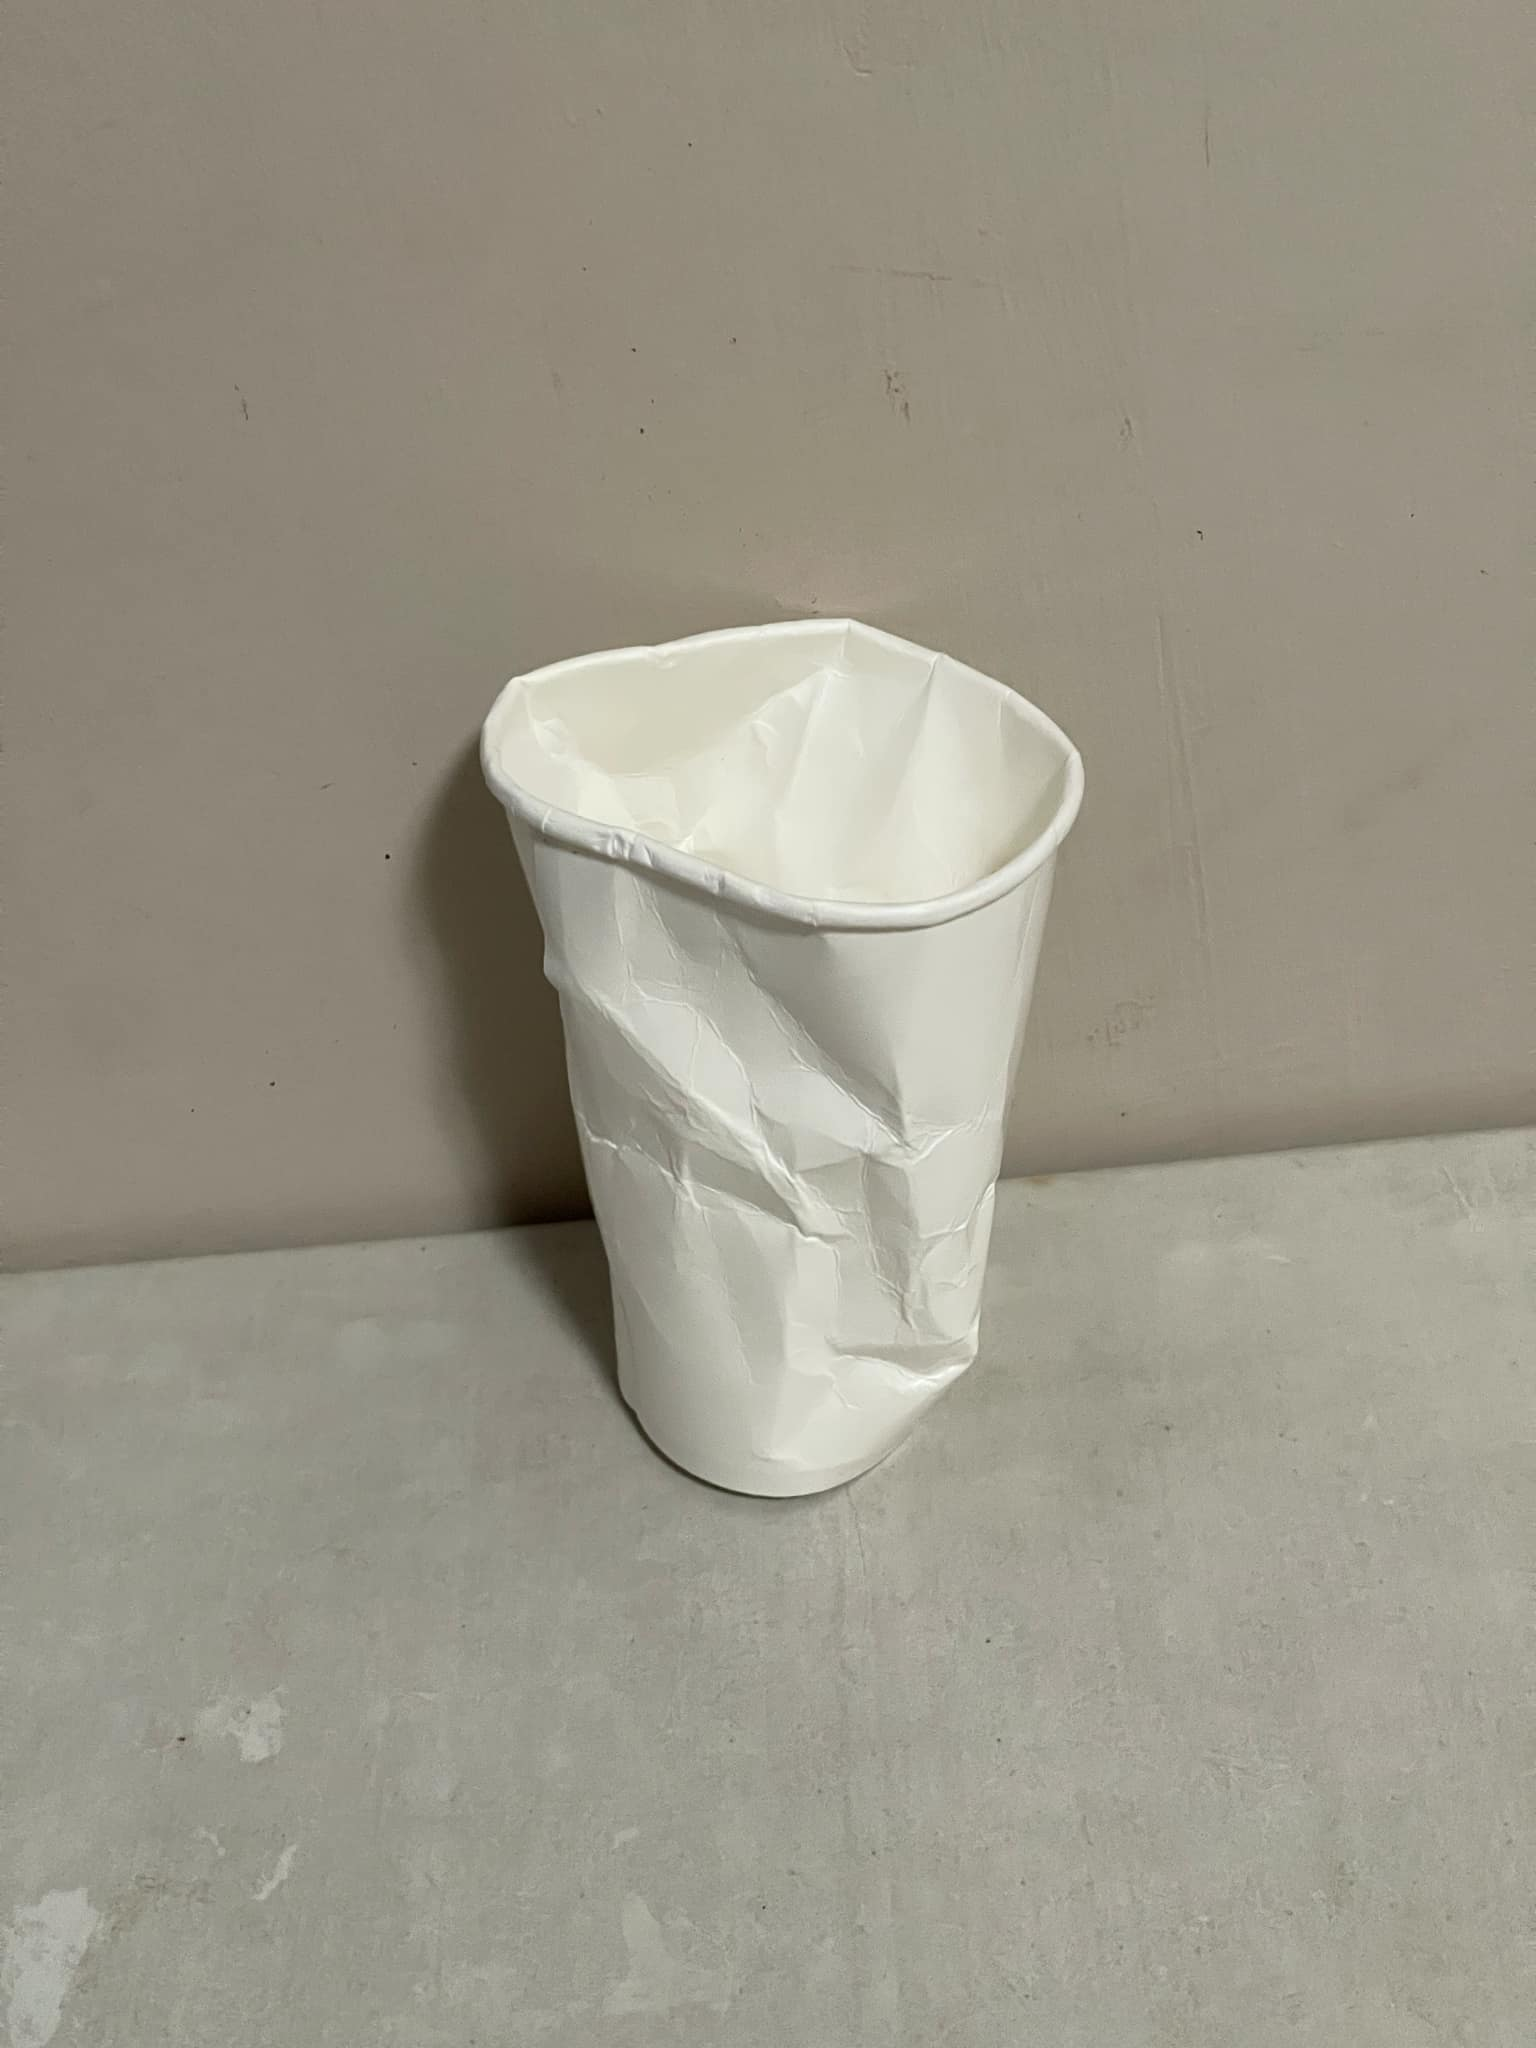Paper Food Packages: (371, 606, 1121, 1530)
